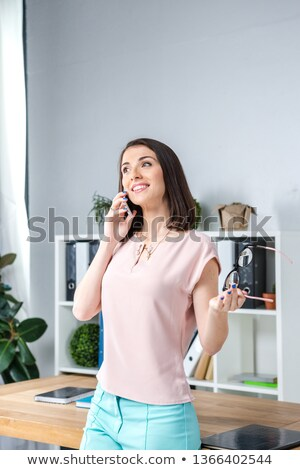phone: (116, 179, 134, 222)
talk: (102, 151, 160, 239)
